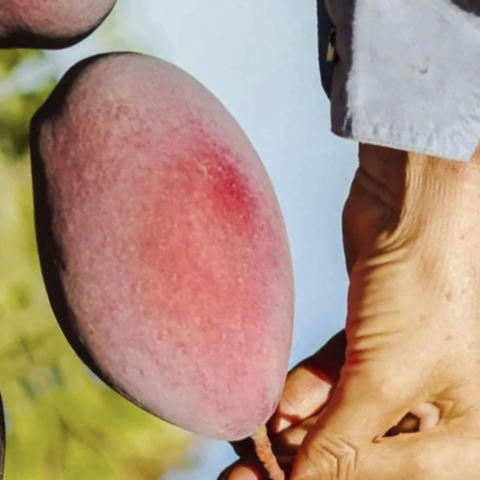mango: (0, 0, 394, 480)
